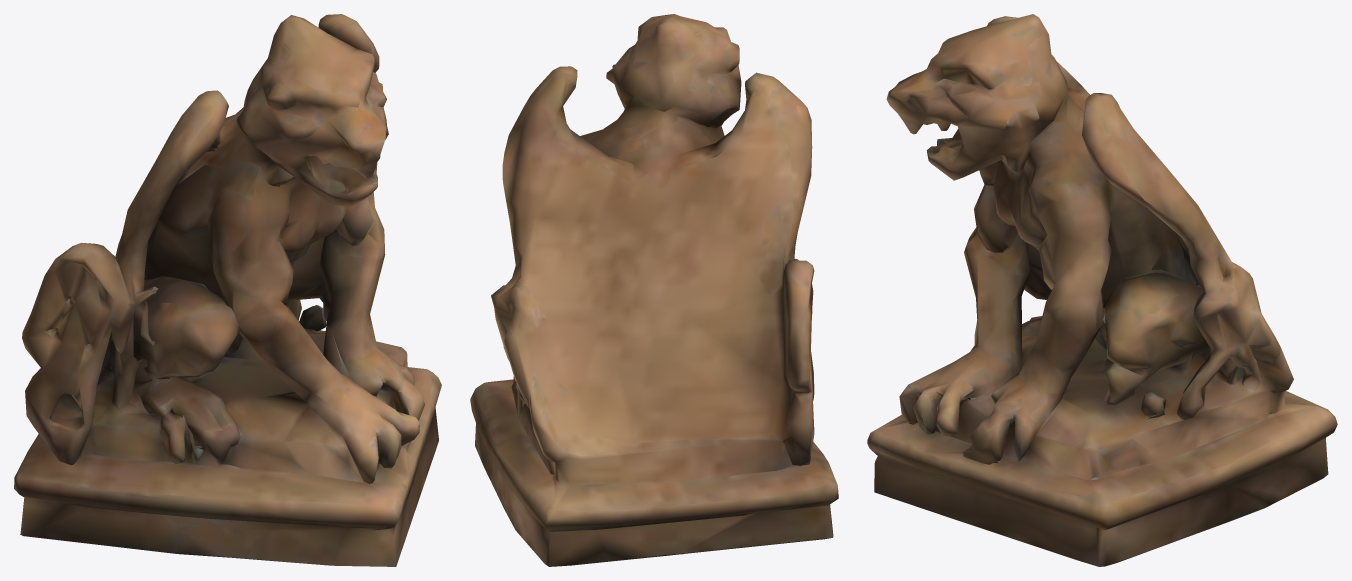
The model's file is ancient-sandstone-gargoyle-v001.glb.
3 views of the same model, side by side, from view 1: azimuth 30°, elevation 25°; view 2: azimuth 150°, elevation 25°; view 3: azimuth 270°, elevation 25° (orthographic). The views are drawn at different scales.
Parts seen in each view (by area): view 1: ancient-sandstone-gargoyle; view 2: ancient-sandstone-gargoyle; view 3: ancient-sandstone-gargoyle.
Part boxes in pixels (x1,y1,x2,y2): ancient-sandstone-gargoyle: [14, 14, 441, 566]; ancient-sandstone-gargoyle: [470, 14, 838, 566]; ancient-sandstone-gargoyle: [867, 14, 1337, 566].
Bounding box in the file's own units: 0.6858 × 0.7782 × 0.7067.
1 material, 1 textured.
